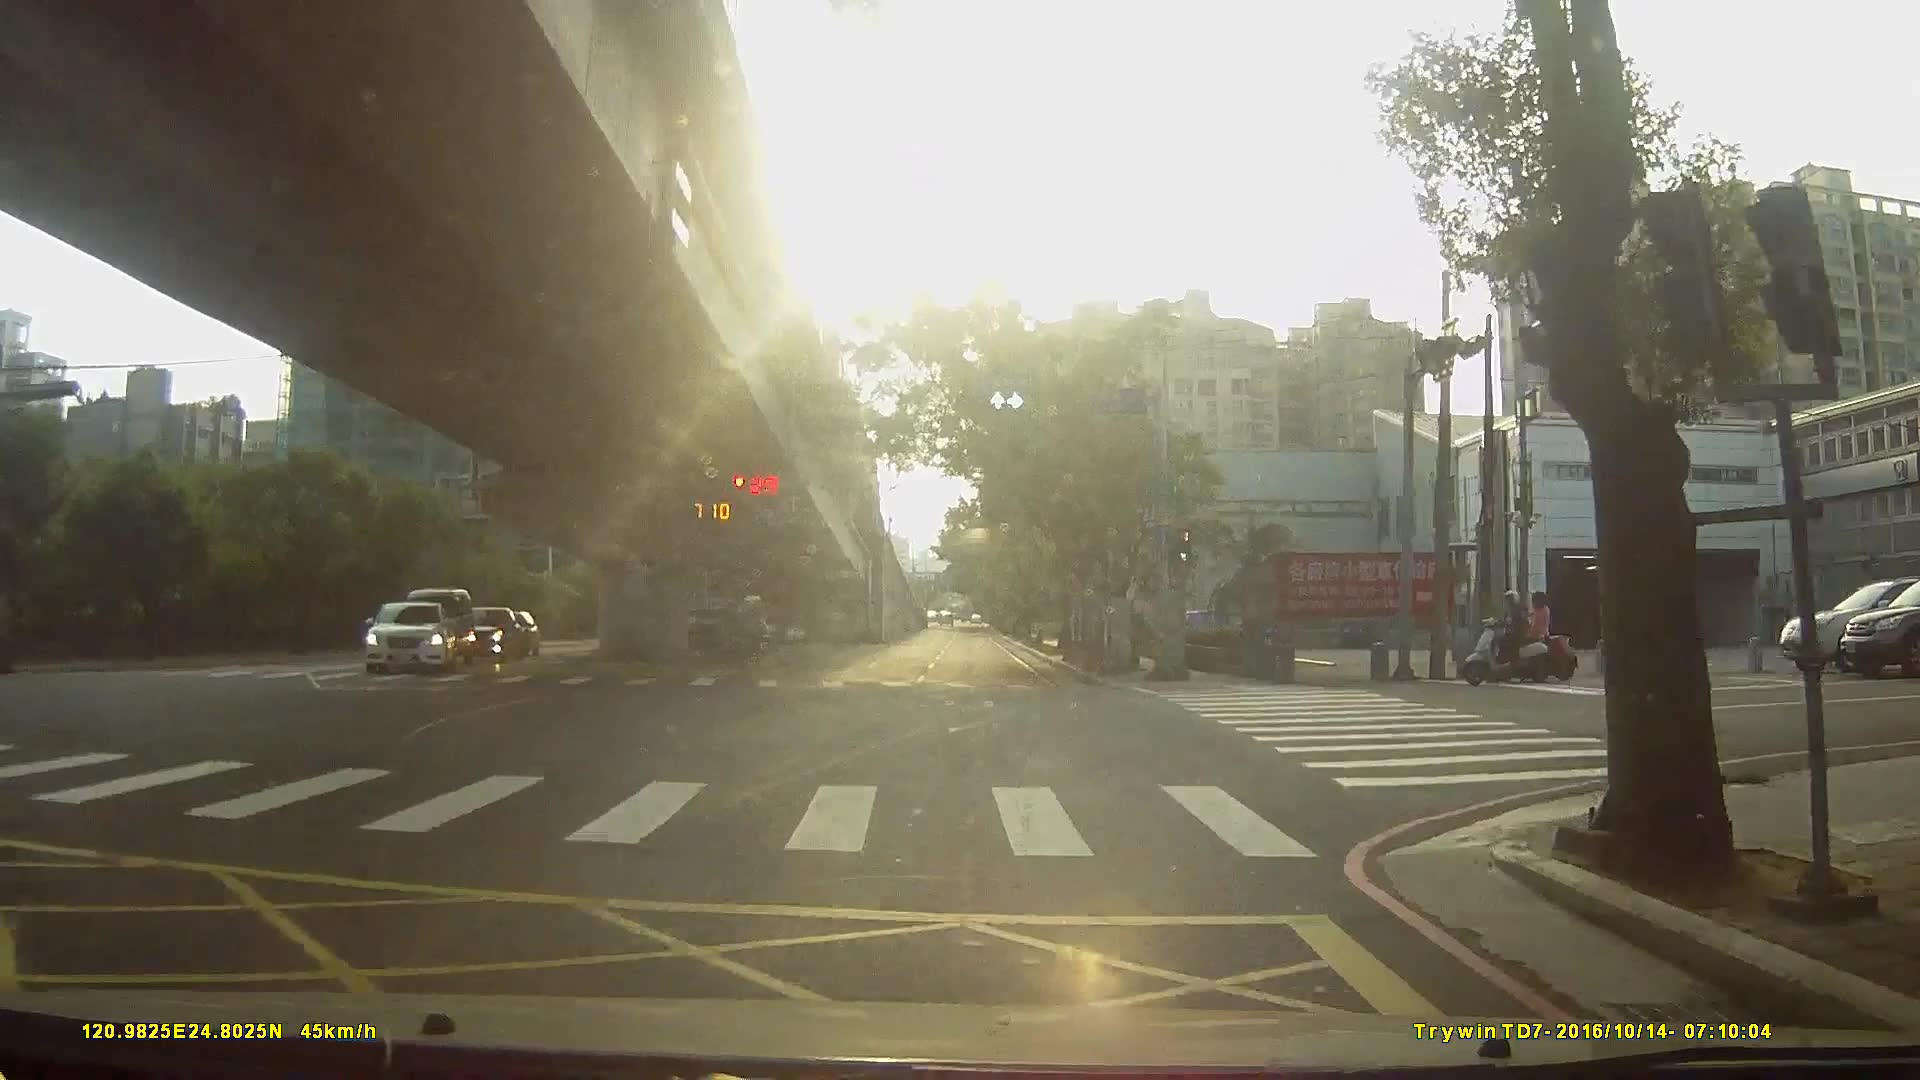rider: (1463, 589, 1551, 684)
vehicle: (1786, 576, 1920, 678), (357, 603, 448, 678), (1847, 585, 1919, 678), (658, 605, 763, 667), (448, 607, 521, 664)
